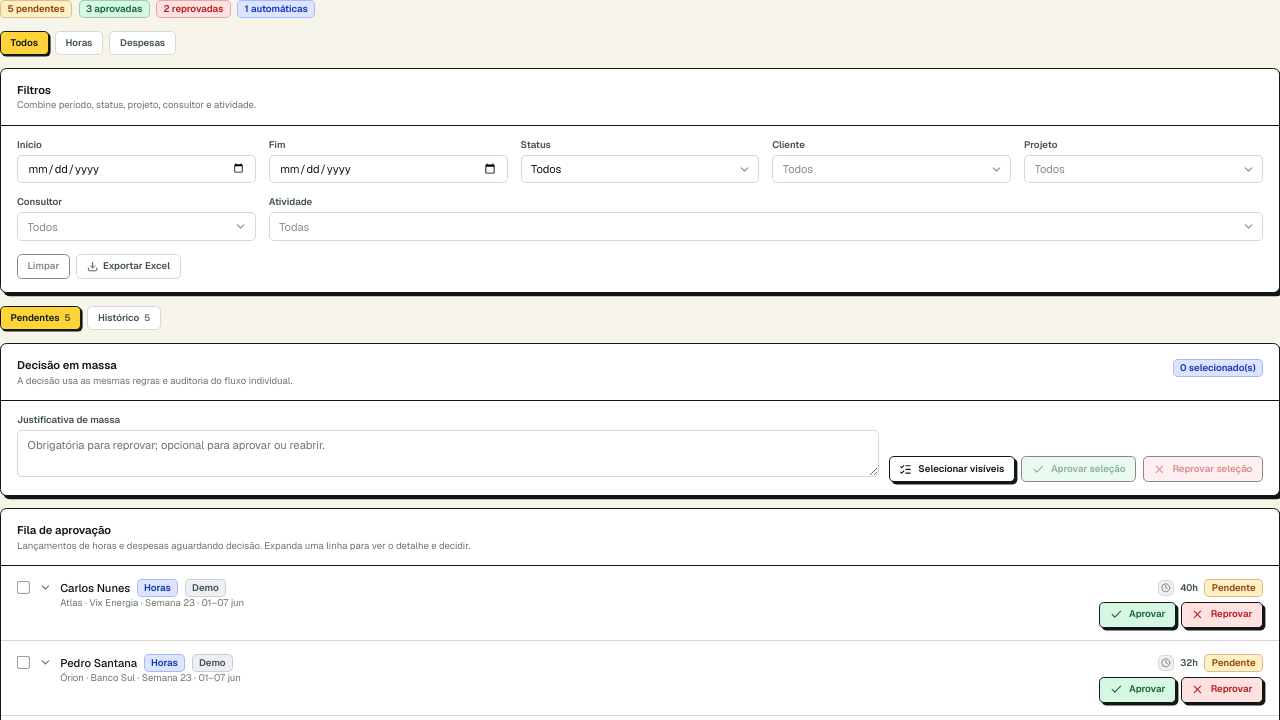
Test: ApprovalQueue › decides visible pending items in bulk with a justification
This screenshot has width=1280, height=720.
Click the button "Selecionar visíveis" at (952, 469), box [889,456,1015,482]
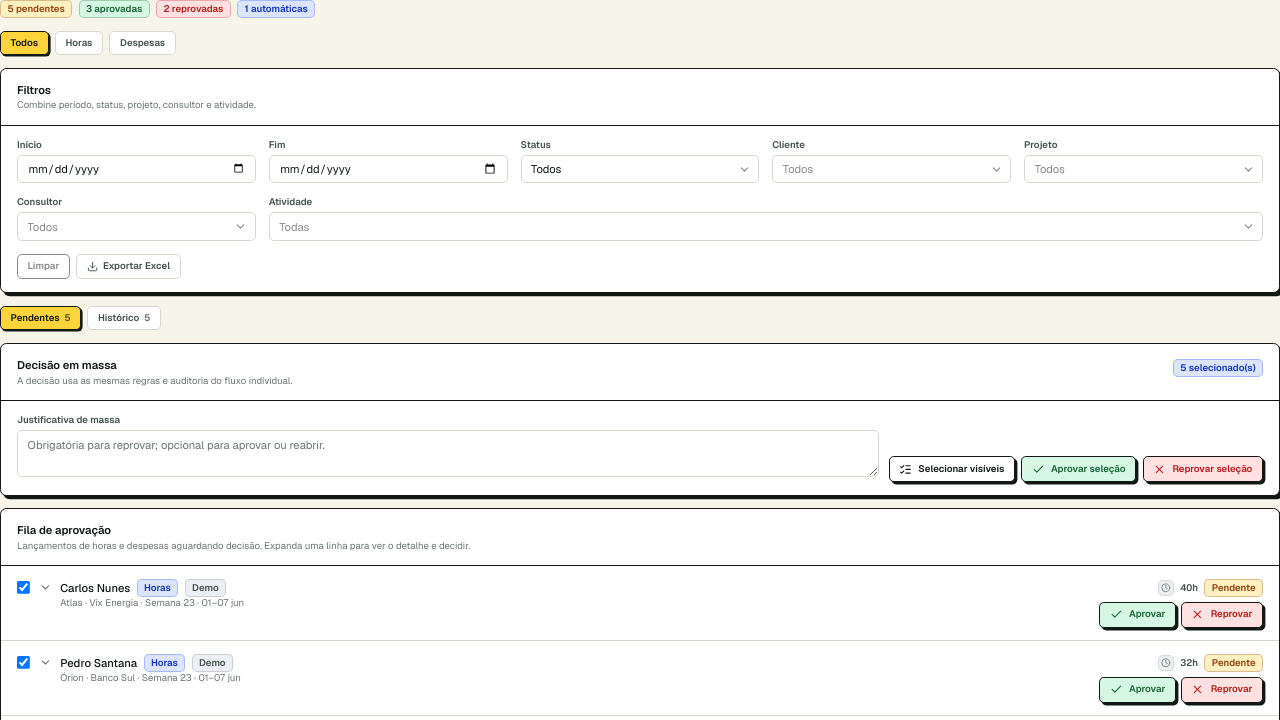
Expected: the text "5 selecionado(s)" is shown, [1173,359,1263,377]
Type "Revisao em lote." into the text box labelled "Justificativa de massa" at (448, 453), box [17,430,879,477]
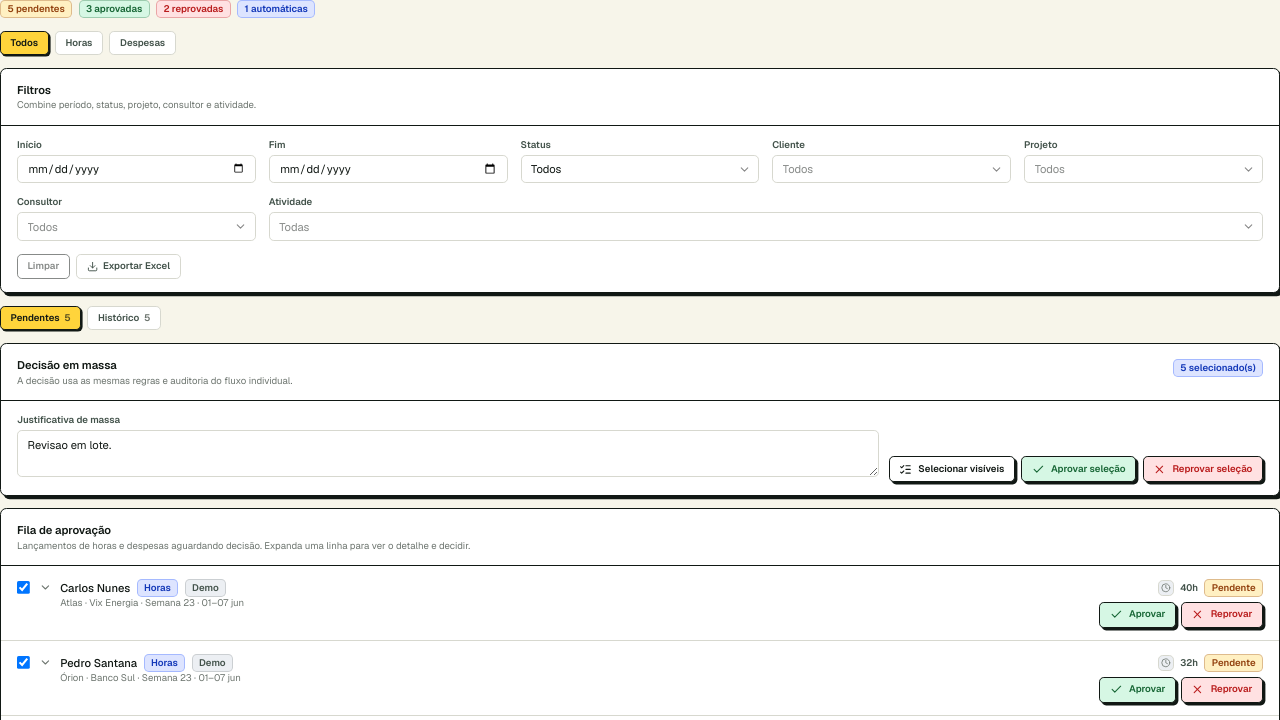
Click the button "Reprovar seleção" at (1203, 469), box [1143,456,1263,482]
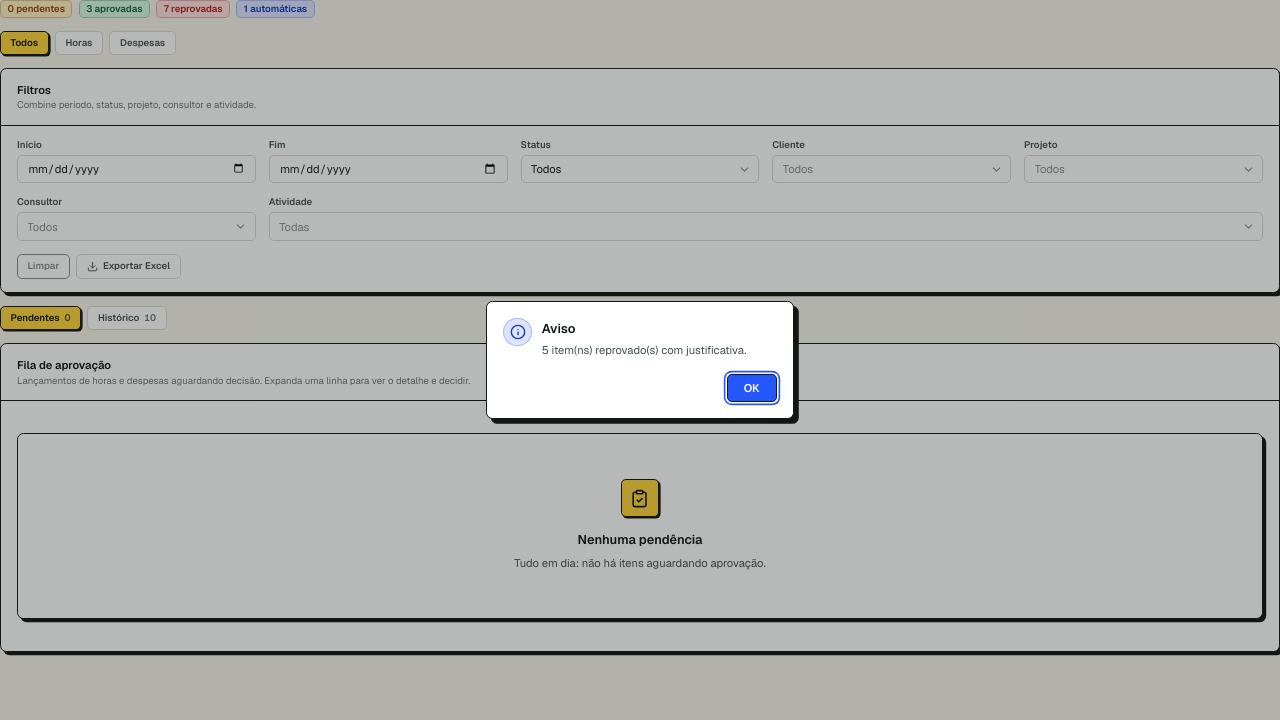
Expected: the text "5 item(ns) reprovado(s) com justificativa." is shown, [542,342,746,358]
Expected: the text "0 pendentes" is shown, [0,0,72,18]
